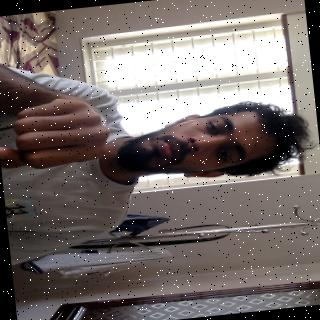Yes: (0, 79, 128, 193)
